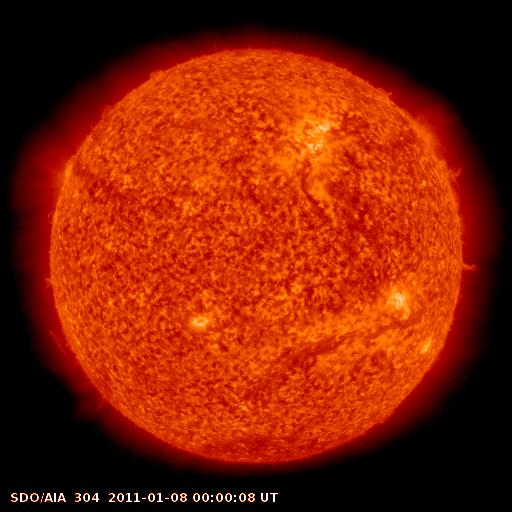prominence: (434, 146, 480, 199), (44, 322, 85, 370), (451, 247, 491, 288)
